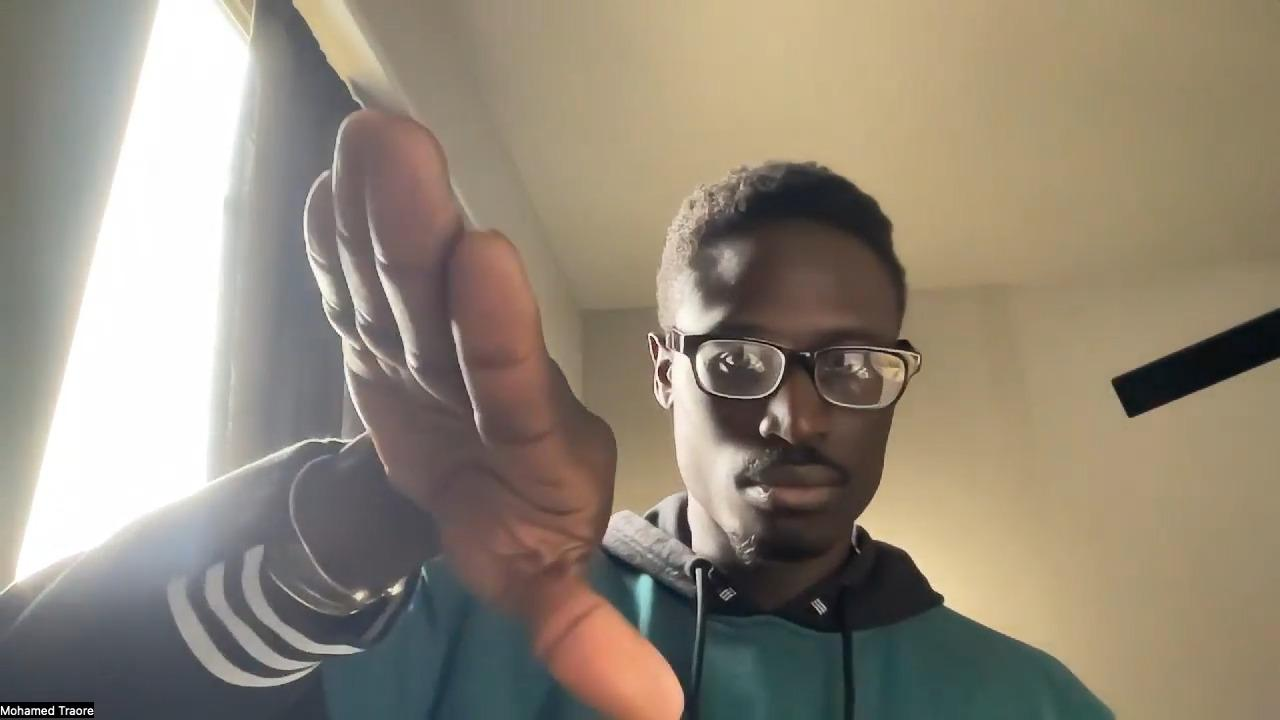Paper: (303, 105, 689, 720)
